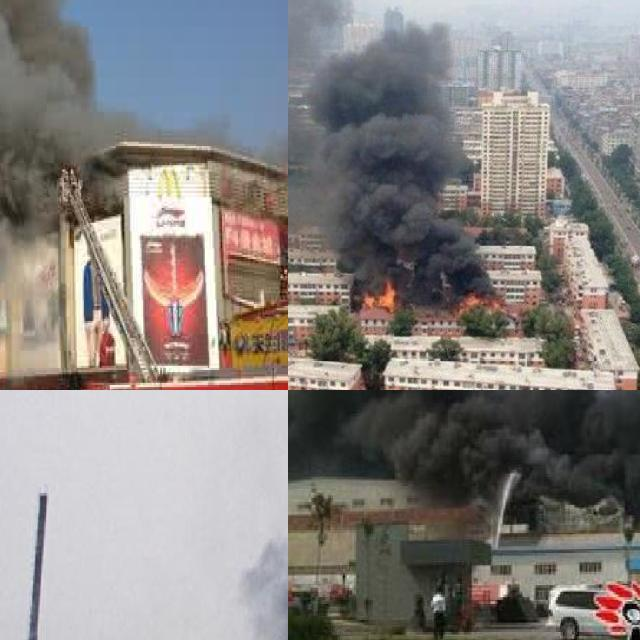fire: (360, 279, 396, 312), (453, 291, 497, 312)
smoke: (288, 0, 483, 298), (288, 390, 640, 510), (0, 0, 107, 240), (227, 390, 288, 640)
